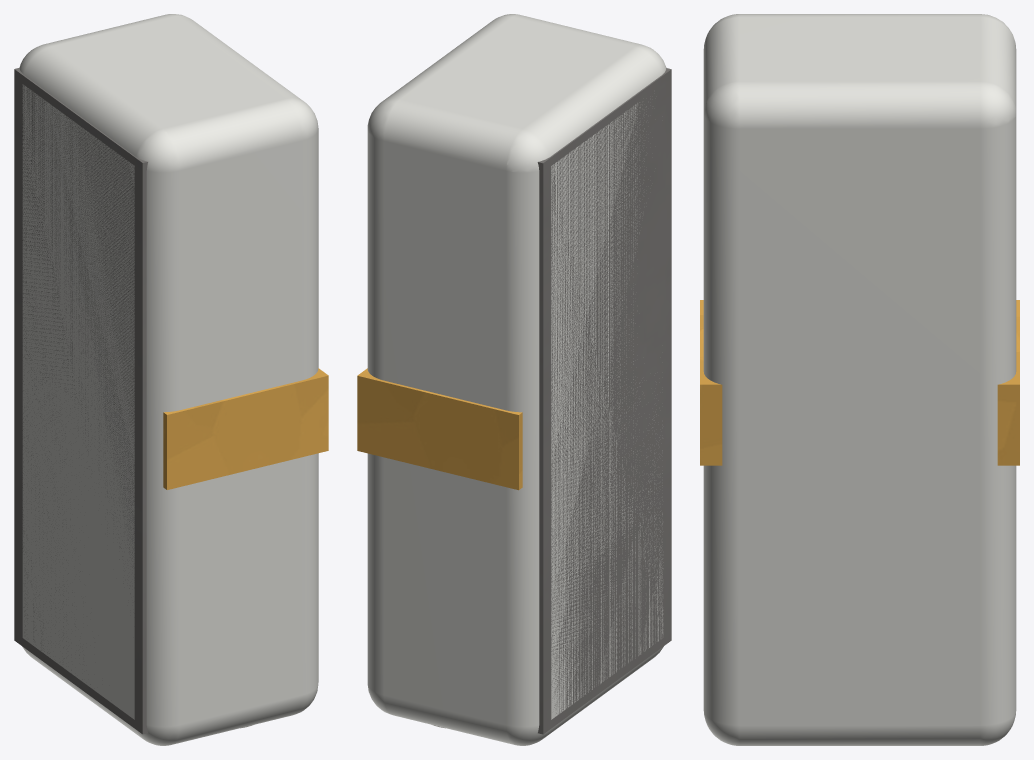
File: prop22_ullage_motor_pack_ullage.glb
3 views of the same model, side by side, from view 1: azimuth 30°, elevation 25°; view 2: azimuth 150°, elevation 25°; view 3: azimuth 270°, elevation 25° (orthographic). The views are drawn at different scales.
Visible parts, largest first — view 1: fairing, mount_plate, gold_band; view 2: fairing, mount_plate, gold_band; view 3: fairing, gold_band.
Part boxes in pixels (x1,y1,x2,y2): fairing: [19, 14, 318, 745]; mount_plate: [14, 67, 147, 734]; gold_band: [163, 368, 328, 489]; fairing: [367, 14, 666, 745]; mount_plate: [537, 68, 671, 734]; gold_band: [357, 368, 522, 490]; fairing: [703, 14, 1016, 745]; gold_band: [700, 300, 1019, 465].
Bounding box in the file's own units: 0.25 × 0.8285 × 0.358.
4 materials, 3 textured.
